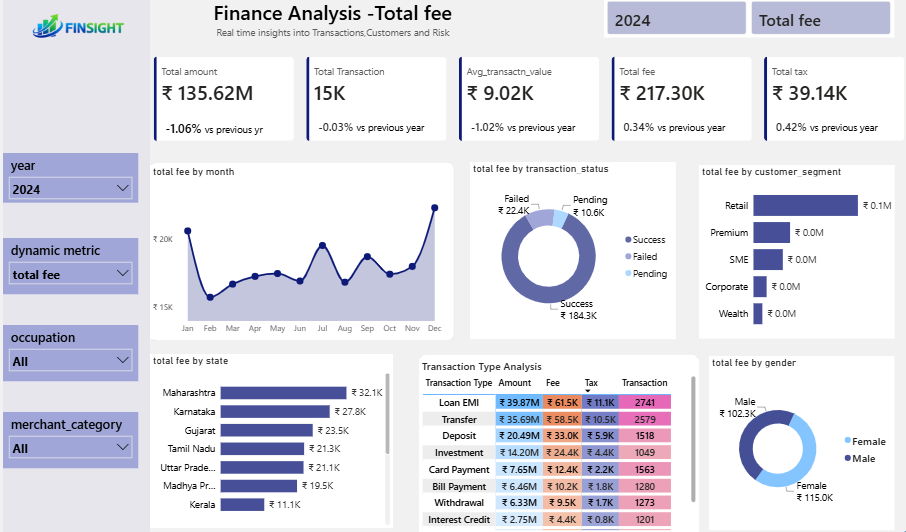

What the dashboard file says about the page in this screenshot:
{"tool":"powerbi","page":{"name":"Overview Analysis","canvas":[1530,919],"ordinal":0},"visuals":[{"type":"shape","box":[17.1,19.2,245.7,910.3],"z":0},{"type":"shape","box":[5.5,18.4,1523.7,900.6],"z":1000},{"type":"image","box":[0,0,300.2,153.5],"z":2000},{"type":"cardVisual","fields":{"Data":["Measure.Dashboard Title"]},"box":[241.4,0,654.8,117.5],"z":3000},{"type":"cardVisual","fields":{"Data":["Measure.Total amount","Measure.Total Transaction","Measure.avg_transactn_value","Measure.total fee","Measure.Total tax"]},"box":[262.7,117.7,1267.3,153.5],"z":4000},{"type":"slicer","fields":{"Values":["calender.year"]},"box":[16.5,284.9,226.1,82.7],"z":5000},{"type":"slicer","fields":{"Values":["dynamic metric.dynamic metric"]},"box":[16.5,426.4,226.1,93.7],"z":6000},{"type":"shape","box":[262.8,299.2,508.6,299.2],"z":7000},{"type":"areaChart","fields":{"Y":["Measure.Total fee"],"Category":["calender.month"]},"box":[262.8,303.4,495.8,290.6],"z":8000},{"type":"cardVisual","fields":{"Data":["Measure.Selected year","Measure.selected dynamic metric"]},"box":[1021.4,25.6,485.1,66.2],"z":9000},{"type":"barChart","fields":{"Y":["Measure.Total fee"],"Category":["customers.customer_segment"]},"box":[1180,303.3,327.2,290.4],"z":10000},{"type":"donutChart","fields":{"Y":["Measure.Total fee"],"Category":["finance_transactions.transaction_status"]},"box":[797.7,299.6,343.7,295.9],"z":11000},{"type":"barChart","fields":{"Y":["Measure.Total fee"],"Category":["customers.state"]},"box":[262.8,619.7,406,290.6],"z":12000},{"type":"shape","box":[711.6,619.7,468,294.9],"z":13000},{"type":"tableEx","title":"Transaction Type Analysis","fields":{"Values":["finance_transactions.transaction_type","Measure.Total amount","Measure.Total fee","Measure.Total tax","Measure.Total Transaction"]},"box":[711.6,628.2,468,290.6],"z":14000},{"type":"donutChart","fields":{"Y":["Measure.Total fee"],"Category":["customers.gender"]},"box":[1196.6,624,309.8,290.6],"z":15000},{"type":"slicer","fields":{"Values":["customers.occupation"]},"box":[16.5,571.6,226.1,93.7],"z":16000},{"type":"slicer","fields":{"Values":["finance_transactions.merchant_category"]},"box":[16.5,716.8,226.1,93.7],"z":17000}]}

Visuals, with their boxes in screenshot pixels (x1, y1, x2, y2), scaled from the page's 1530x919 canvas onto the 906x532 screenshot:
shape: bbox=[10, 11, 156, 531]
shape: bbox=[3, 11, 905, 531]
image: bbox=[0, 0, 178, 89]
cardVisual - Measure.Dashboard Title: bbox=[143, 0, 531, 68]
cardVisual - Measure.Total amount x Measure.Total Transaction: bbox=[156, 68, 905, 157]
slicer - calender.year: bbox=[10, 165, 144, 213]
slicer - dynamic metric.dynamic metric: bbox=[10, 247, 144, 301]
shape: bbox=[156, 173, 457, 346]
areaChart - Measure.Total fee x calender.month: bbox=[156, 176, 449, 344]
cardVisual - Measure.Selected year x Measure.selected dynamic metric: bbox=[605, 15, 892, 53]
barChart - Measure.Total fee x customers.customer_segment: bbox=[699, 176, 892, 344]
donutChart - Measure.Total fee x finance_transactions.transaction_status: bbox=[472, 173, 676, 345]
barChart - Measure.Total fee x customers.state: bbox=[156, 359, 396, 527]
shape: bbox=[421, 359, 699, 529]
"Transaction Type Analysis" tableEx: bbox=[421, 364, 699, 531]
donutChart - Measure.Total fee x customers.gender: bbox=[709, 361, 892, 529]
slicer - customers.occupation: bbox=[10, 331, 144, 385]
slicer - finance_transactions.merchant_category: bbox=[10, 415, 144, 469]
